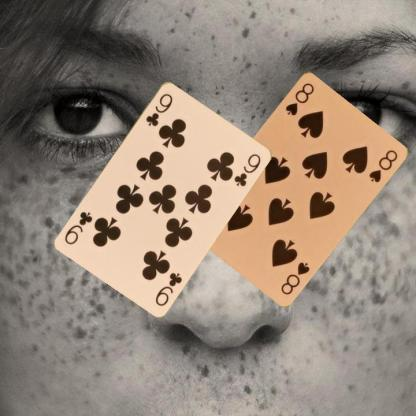8s: (278, 258, 312, 296), (282, 80, 316, 116)
9c: (152, 270, 184, 308), (143, 90, 174, 128)
